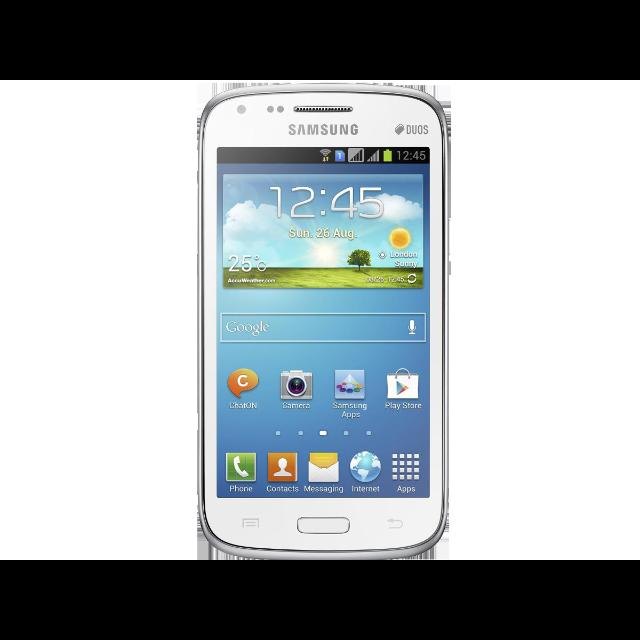Smartphone: (196, 80, 451, 560)
